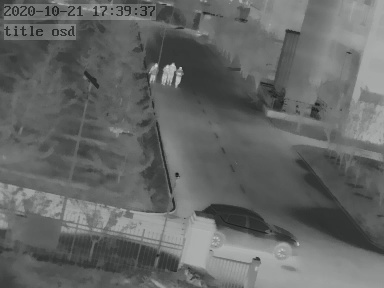person: (175, 66, 183, 89), (150, 63, 157, 87), (168, 62, 175, 85), (161, 64, 168, 85)
vehicle: (192, 204, 299, 258)
